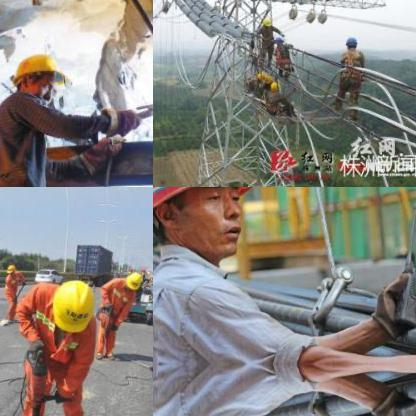Helmet: (153, 187, 265, 266), (2, 45, 64, 103), (48, 276, 98, 334), (124, 270, 144, 290), (343, 32, 357, 48), (4, 260, 18, 272), (268, 78, 280, 90), (260, 16, 272, 26), (254, 68, 264, 80), (264, 72, 272, 82)
